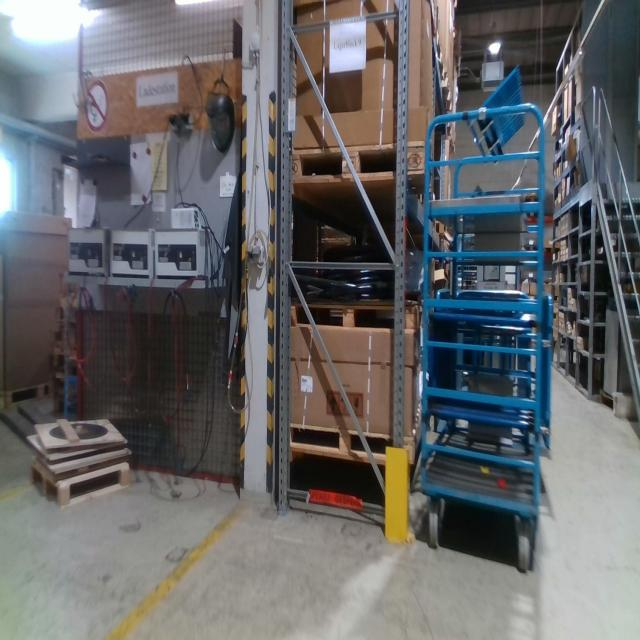pallet: (286, 401, 422, 468), (291, 138, 437, 192), (289, 297, 420, 336), (31, 462, 132, 511), (4, 377, 53, 411)
